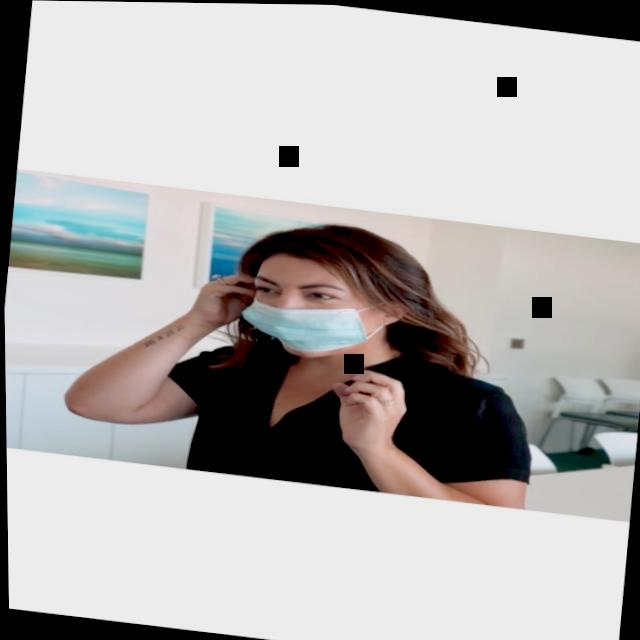Mask: (230, 243, 409, 360)
